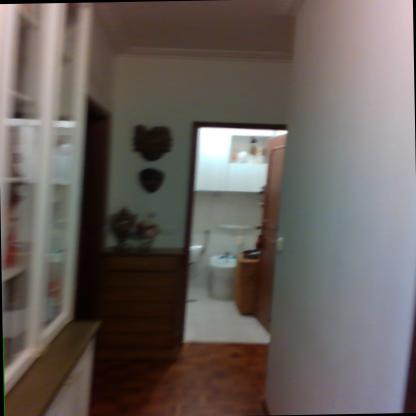open: (171, 112, 308, 352)
